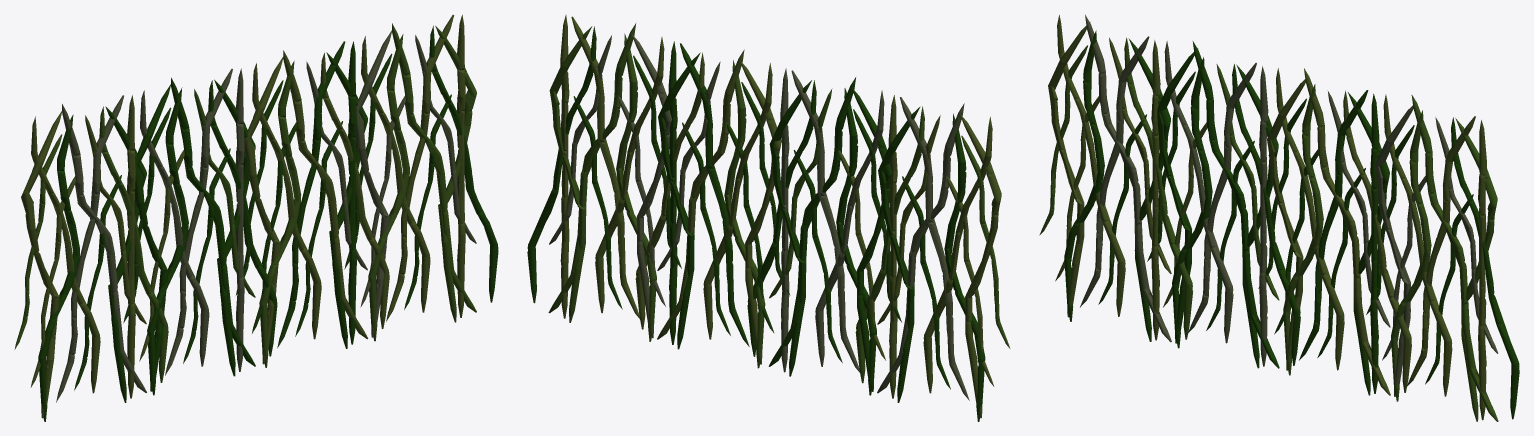
File: vines.fbx
The picture shows the model from 3 angles, left to right: view 1: azimuth 30°, elevation 25°; view 2: azimuth 150°, elevation 25°; view 3: azimuth 330°, elevation 25°; orthographic projection.
Parts seen in each view (by area): view 1: Cylinder.023; view 2: Cylinder.023; view 3: Cylinder.023.
Part boxes in pixels (x1,y1,x2,y2): Cylinder.023: (14, 14, 498, 421); Cylinder.023: (527, 15, 1010, 421); Cylinder.023: (1039, 14, 1519, 421).
Size of the model in its own units: 1814 by 1132 by 41.47.
